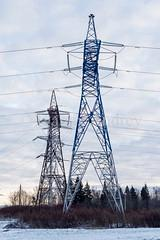power_tower: (64, 10, 128, 218), (32, 85, 69, 207)
